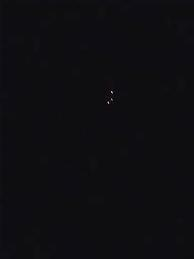Plane: (101, 81, 120, 114)
